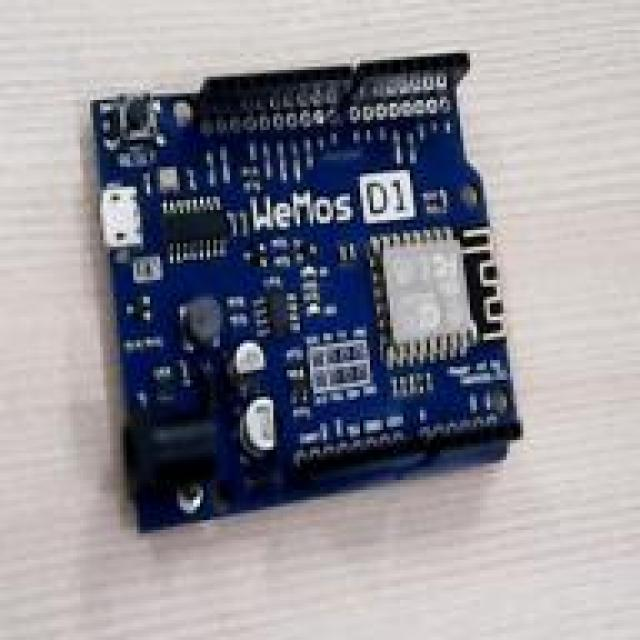Wemos: (91, 54, 518, 528)
